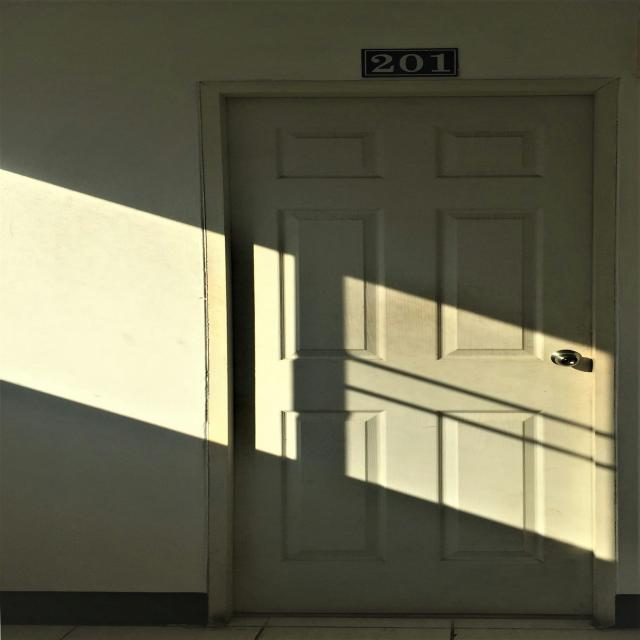door-knob: (551, 350, 582, 366)
